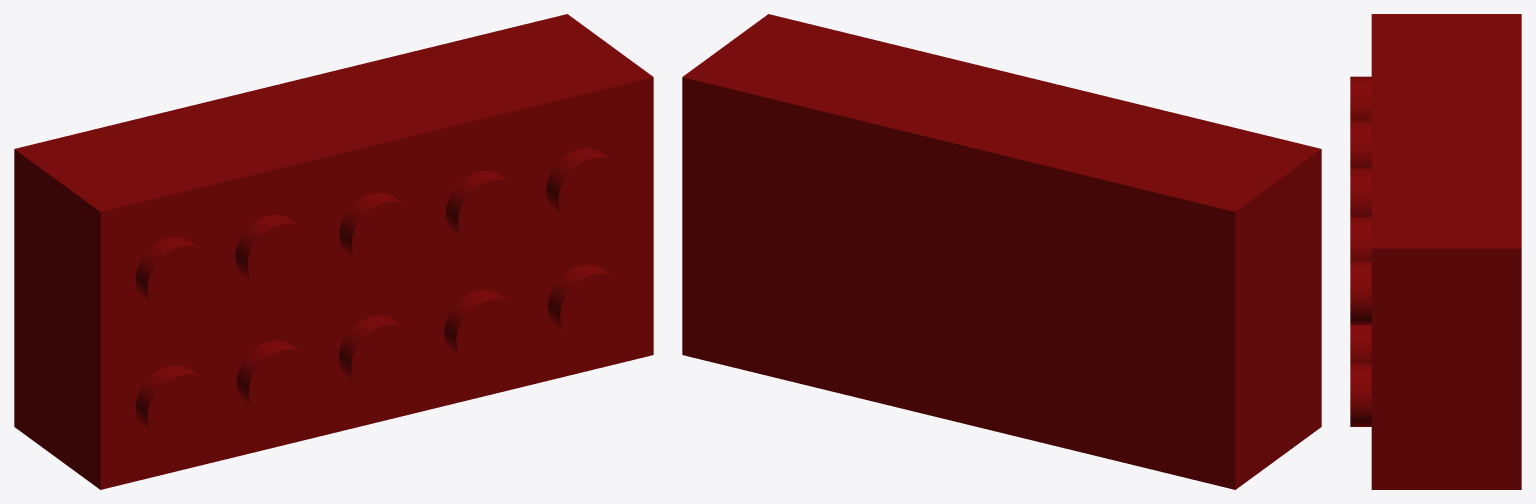
File: brick-large-red.glb
3 views of the same model, side by side, from view 1: azimuth 30°, elevation 25°; view 2: azimuth 150°, elevation 25°; view 3: azimuth 270°, elevation 25° (orthographic). The views are drawn at different scales.
Size of the model in its own units: 1 by 0.48 by 0.3084.
